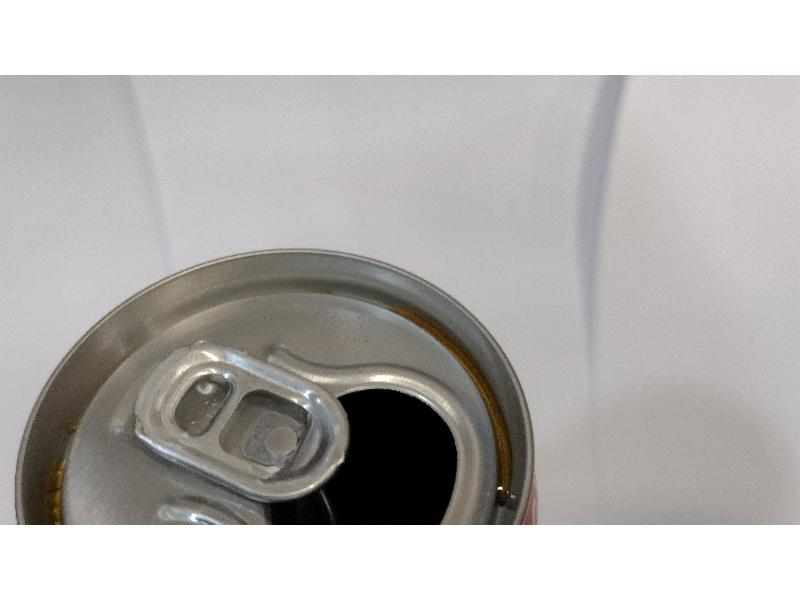can: (6, 241, 552, 528)
